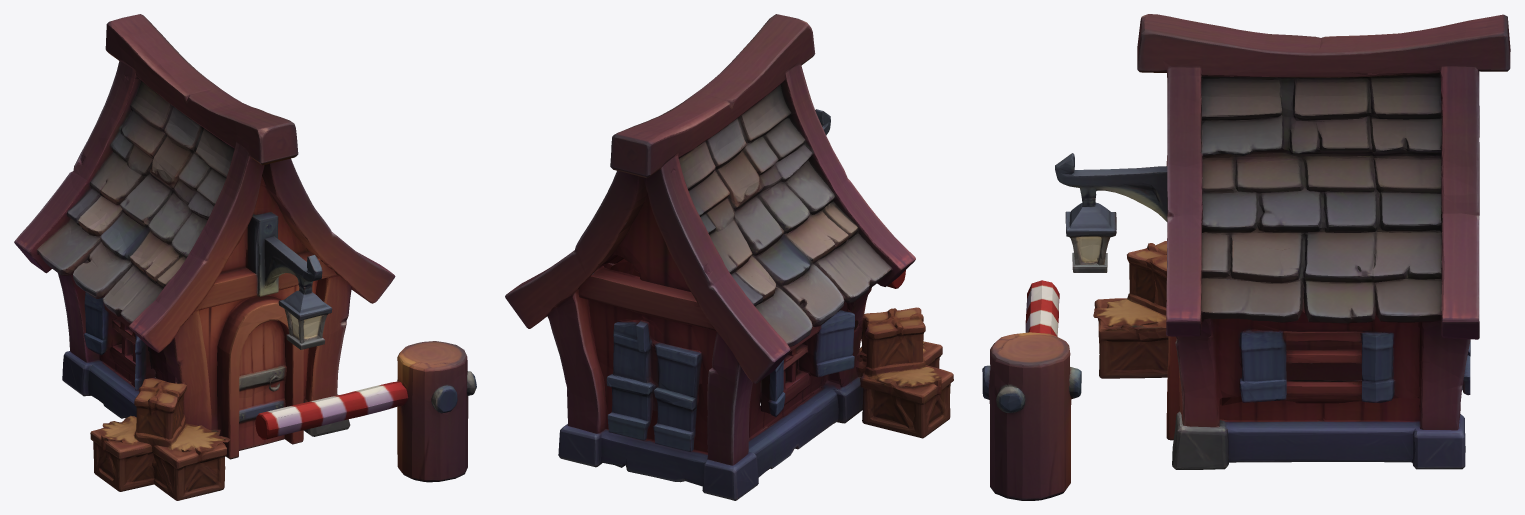
File: tollhut.glb
3 renders of one model, left to right at view 1: azimuth 30°, elevation 25°; view 2: azimuth 150°, elevation 25°; view 3: azimuth 270°, elevation 25°, orthographic. The views are drawn at different scales.
Visible parts, largest first — view 1: geometry_0; view 2: geometry_0; view 3: geometry_0.
Part boxes in pixels (box(x1,y1,x2,y2)): geometry_0: box(14, 14, 476, 500); geometry_0: box(505, 14, 953, 500); geometry_0: box(982, 14, 1510, 500).
Size of the model in its own units: 0.7824 by 0.8347 by 0.9983.
Materials: 1 (1 with a texture image).
